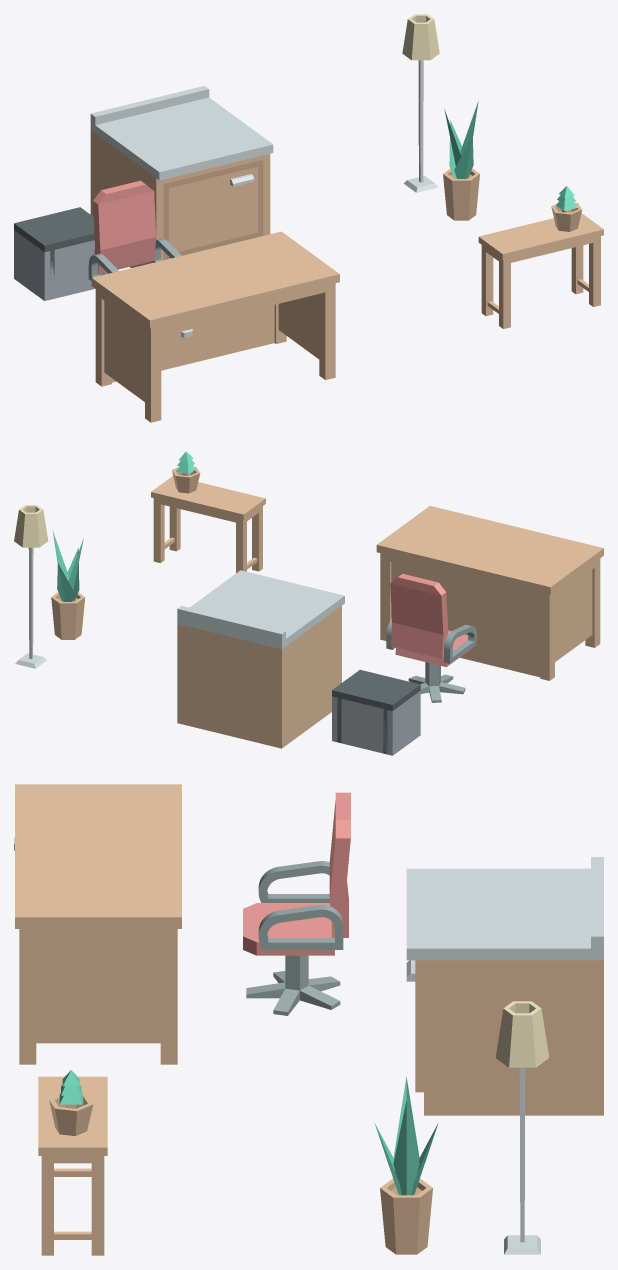
The picture shows the model from 3 angles, top to bottom: view 1: azimuth 30°, elevation 25°; view 2: azimuth 150°, elevation 25°; view 3: azimuth 270°, elevation 25°; orthographic projection. The views are drawn at different scales.
Visible parts, largest first — view 1: desk_blue__desk(Clone), cabinet_blue__kitchenCabinet(Clone), cabinet_blue__door, sidetable_brown__sideTable(Clone), deskchair_black__chair, crate_red__crate_red shell, lamp_white__lampRoundFloor(Clone), crate_red__crate_red lid, plant_pink__pottedPlant(Clone), plant_pink__plant, flowerpot_green__plantSmall1(Clone), desk_blue__drawer; view 2: desk_blue__desk(Clone), cabinet_blue__kitchenCabinet(Clone), deskchair_black__chair, sidetable_brown__sideTable(Clone), crate_red__crate_red shell, crate_red__crate_red lid, lamp_white__lampRoundFloor(Clone), plant_pink__pottedPlant(Clone), deskchair_black__chairDesk(Clone), plant_pink__plant, flowerpot_green__plantSmall1(Clone); view 3: cabinet_blue__kitchenCabinet(Clone), desk_blue__desk(Clone), deskchair_black__chair, sidetable_brown__sideTable(Clone), lamp_white__lampRoundFloor(Clone), plant_pink__pottedPlant(Clone), deskchair_black__chairDesk(Clone), plant_pink__plant, flowerpot_green__plantSmall1(Clone).
Boxes of the visible parts, bbox=[...] form: desk_blue__desk(Clone): bbox=[91, 231, 339, 422]; cabinet_blue__kitchenCabinet(Clone): bbox=[90, 86, 273, 267]; cabinet_blue__door: bbox=[163, 160, 263, 259]; sidetable_brown__sideTable(Clone): bbox=[478, 213, 603, 328]; deskchair_black__chair: bbox=[88, 180, 181, 280]; crate_red__crate_red shell: bbox=[14, 230, 107, 300]; lamp_white__lampRoundFloor(Clone): bbox=[402, 14, 439, 192]; crate_red__crate_red lid: bbox=[14, 207, 94, 252]; plant_pink__pottedPlant(Clone): bbox=[443, 168, 479, 220]; plant_pink__plant: bbox=[444, 101, 478, 178]; flowerpot_green__plantSmall1(Clone): bbox=[551, 186, 581, 231]; desk_blue__drawer: bbox=[161, 320, 212, 345]; desk_blue__desk(Clone): bbox=[376, 506, 603, 680]; cabinet_blue__kitchenCabinet(Clone): bbox=[177, 570, 344, 748]; deskchair_black__chair: bbox=[386, 573, 476, 666]; sidetable_brown__sideTable(Clone): bbox=[151, 476, 265, 573]; crate_red__crate_red shell: bbox=[332, 691, 420, 755]; crate_red__crate_red lid: bbox=[332, 669, 420, 710]; lamp_white__lampRoundFloor(Clone): bbox=[14, 505, 48, 668]; plant_pink__pottedPlant(Clone): bbox=[51, 592, 85, 639]; deskchair_black__chairDesk(Clone): bbox=[408, 662, 465, 702]; plant_pink__plant: bbox=[52, 530, 83, 601]; flowerpot_green__plantSmall1(Clone): bbox=[172, 451, 200, 493]; cabinet_blue__kitchenCabinet(Clone): bbox=[406, 857, 603, 1115]; desk_blue__desk(Clone): bbox=[15, 784, 181, 1064]; deskchair_black__chair: bbox=[243, 792, 350, 955]; sidetable_brown__sideTable(Clone): bbox=[38, 1076, 107, 1255]; lamp_white__lampRoundFloor(Clone): bbox=[495, 1001, 549, 1254]; plant_pink__pottedPlant(Clone): bbox=[380, 1178, 432, 1254]; deskchair_black__chairDesk(Clone): bbox=[246, 955, 340, 1015]; plant_pink__plant: bbox=[374, 1076, 438, 1195]; flowerpot_green__plantSmall1(Clone): bbox=[49, 1070, 93, 1136].
Size of the model in its own units: 3.51 by 1.2 by 2.69.
